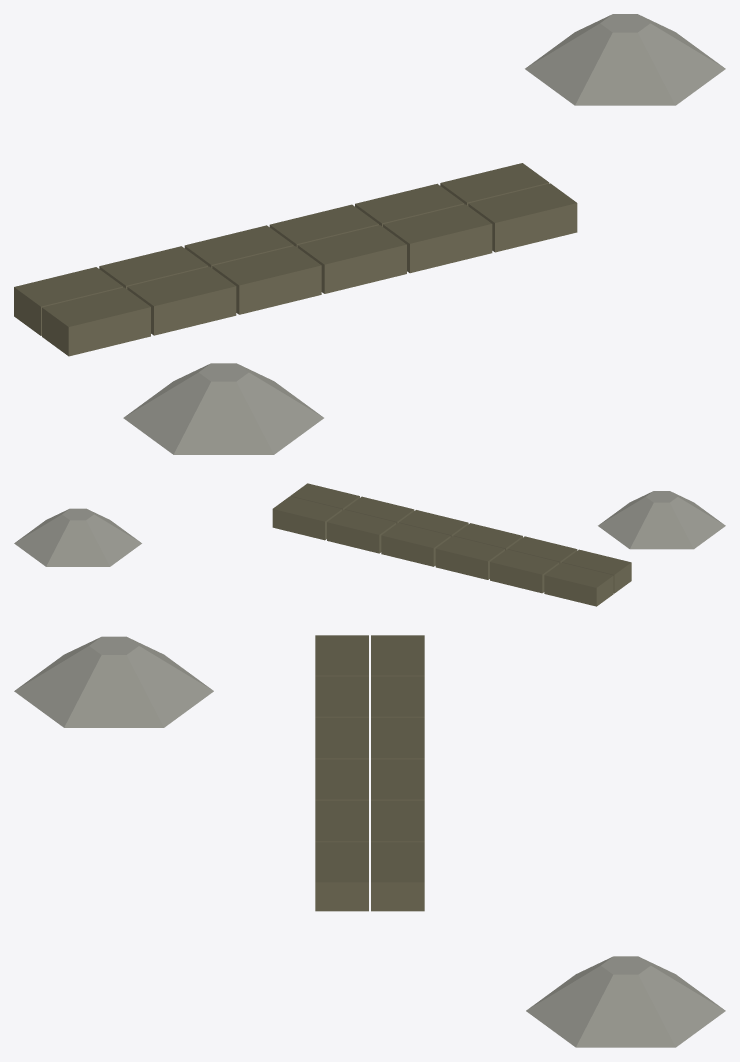
The model's file is SM_ObraReconstruccion_v1_8m_LOD1.fbx.
3 renders of one model, top to bottom at view 1: azimuth 30°, elevation 25°; view 2: azimuth 150°, elevation 25°; view 3: azimuth 270°, elevation 25°, orthographic. The views are drawn at different scales.
Parts seen in each view (by area): view 1: SM_obra_curso_v42_LOD1; view 2: SM_obra_curso_v42_LOD1; view 3: SM_obra_curso_v42_LOD1.
Part boxes in pixels (x1=…): SM_obra_curso_v42_LOD1: x1=14, y1=14, x2=725, y2=454; SM_obra_curso_v42_LOD1: x1=14, y1=483, x2=725, y2=606; SM_obra_curso_v42_LOD1: x1=14, y1=635, x2=725, y2=1047.
Size of the model in its own units: 8.36 by 0.45 by 6.4.
